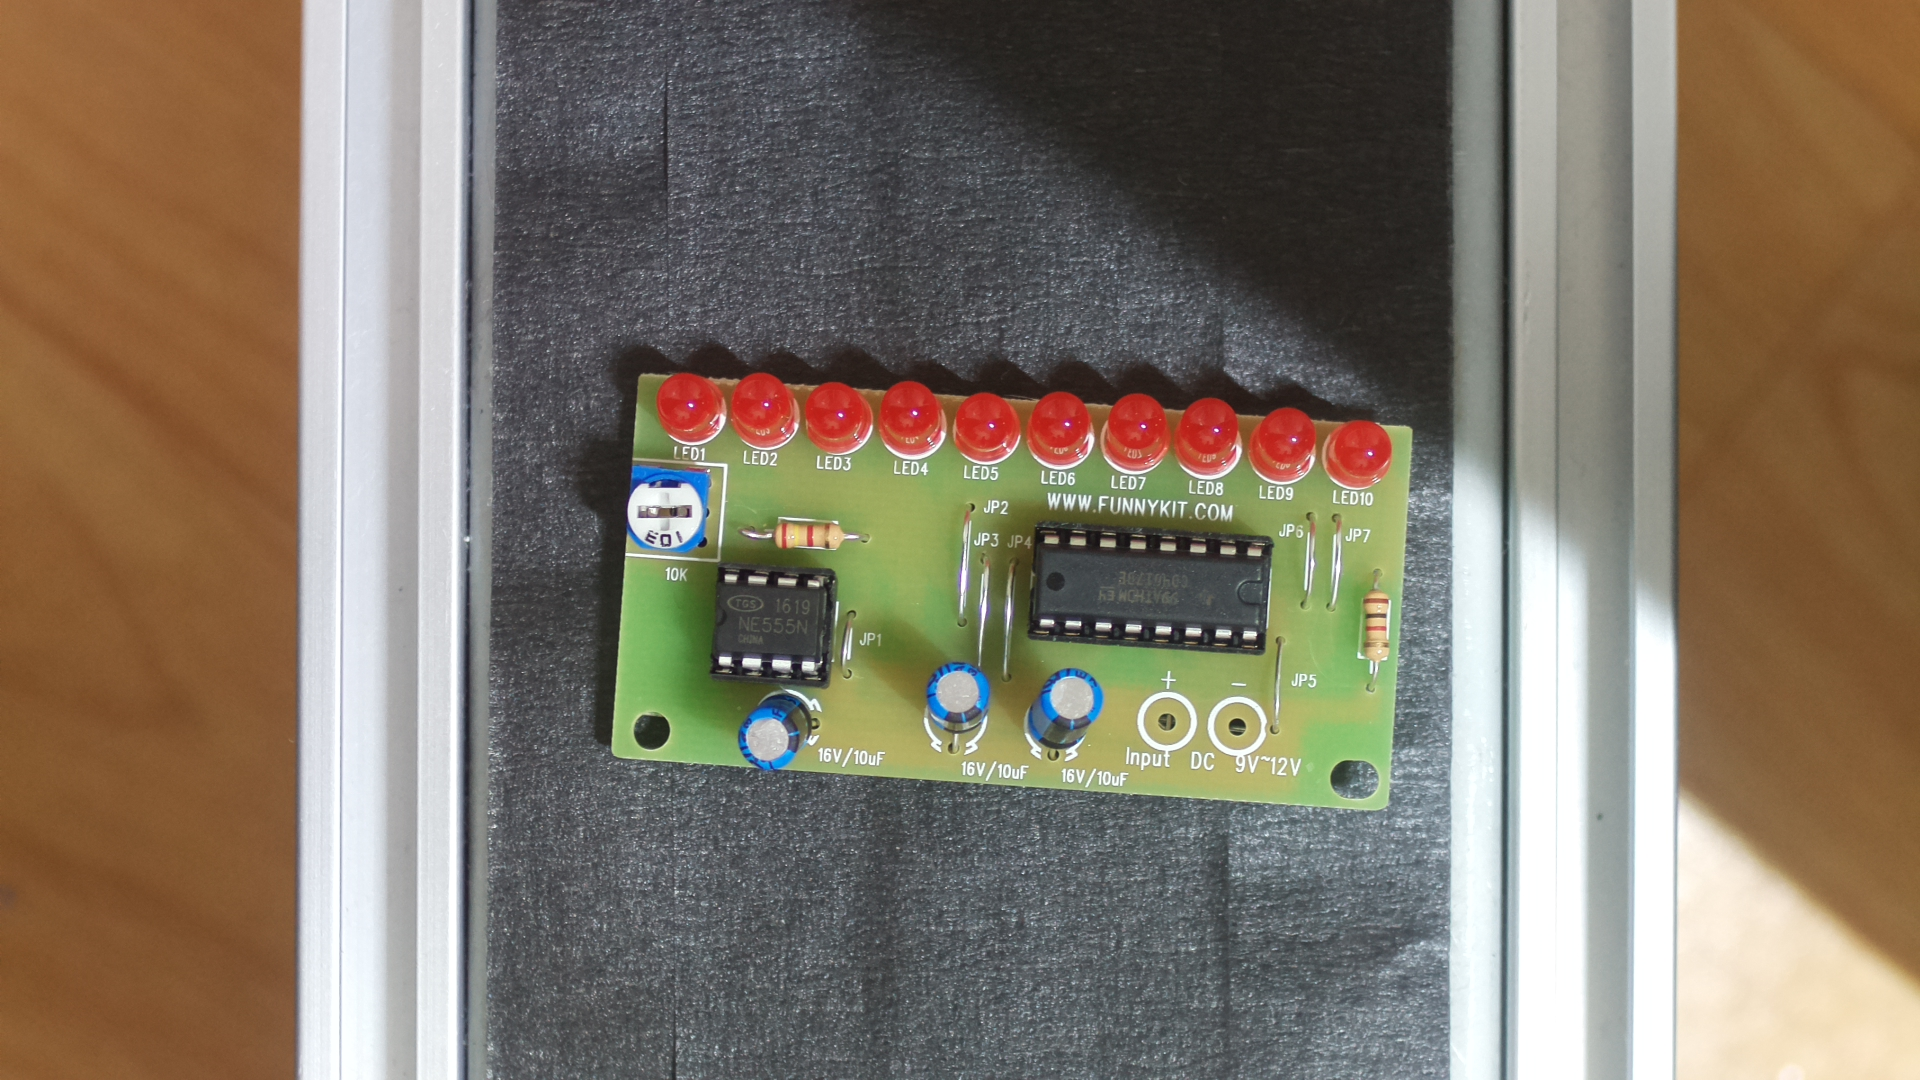B_Normal: (600, 351, 1423, 837)
